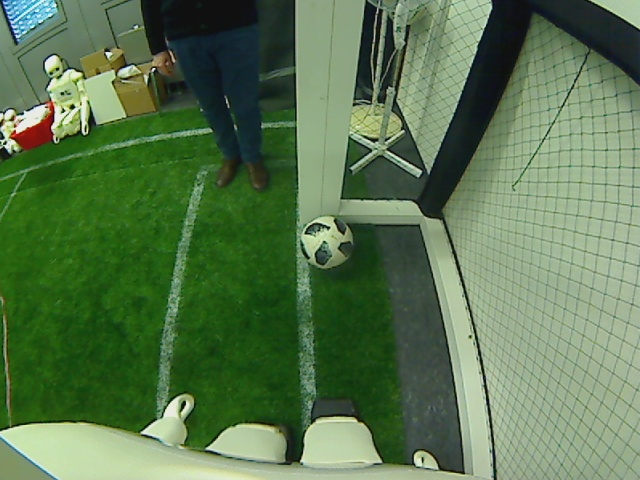ball: (300, 211, 354, 271)
